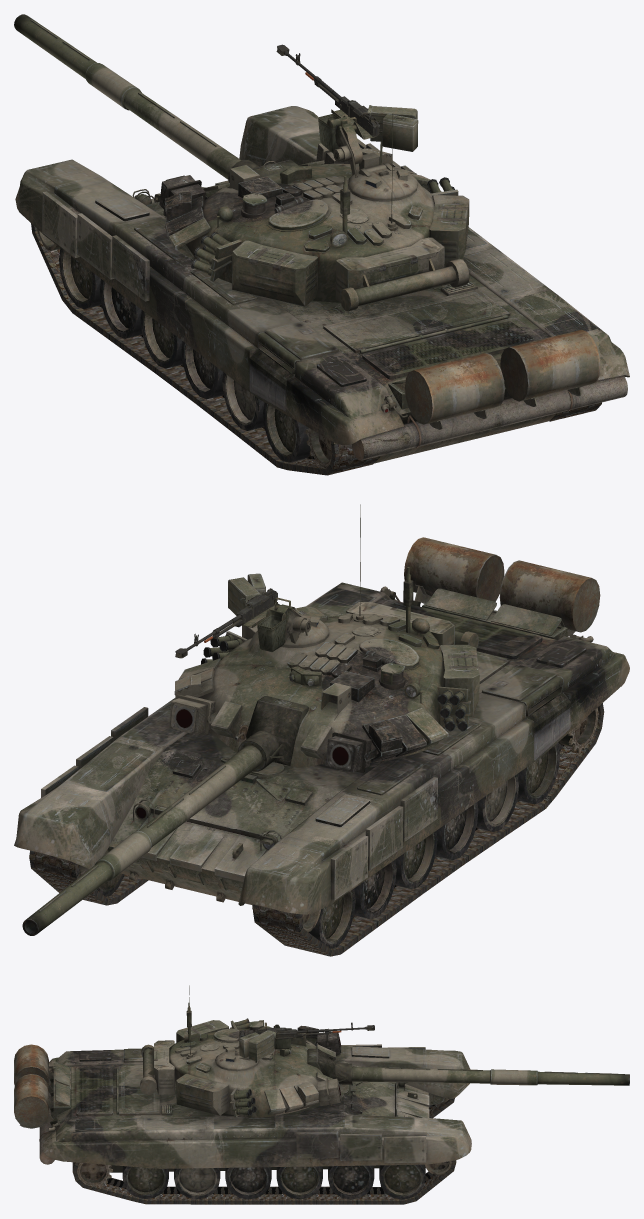
3 views of the same model, one above another, from view 1: azimuth 30°, elevation 25°; view 2: azimuth 150°, elevation 25°; view 3: azimuth 270°, elevation 25° (orthographic). The views are drawn at different scales.
Visible parts, largest first — view 1: Main_Body_2, Turret, Main_Body, gun; view 2: Main_Body_2, Turret, Main_Body, gun; view 3: Main_Body_2, Turret, Main_Body, gun.
Part boxes in pixels (x1,y1,x2,y2): Main_Body_2: (15,106,629,475); Turret: (14,14,469,311); Main_Body: (132,161,555,463); gun: (276,44,382,136); Main_Body_2: (14,537,629,956); Turret: (22,504,479,935); Main_Body: (107,588,567,909); gun: (175,588,277,658); Main_Body_2: (14,1043,471,1204); Turret: (140,985,629,1117); Main_Body: (51,1061,429,1172); gun: (252,1022,374,1042).
Bounding box in the file's own units: 348 × 331 × 1006.
4 materials, 4 textured.
